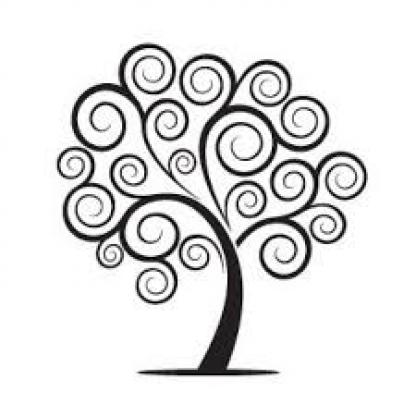root_none: (180, 356, 253, 399)
trunk_reflex: (200, 273, 244, 363)
